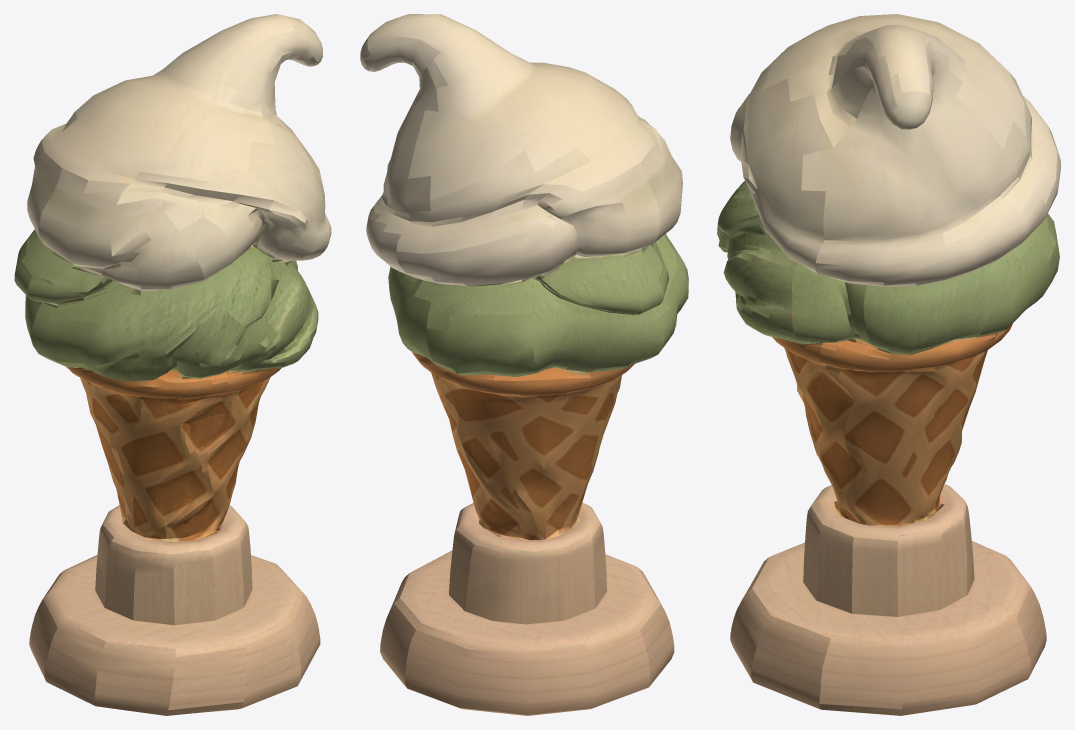
Rendered from dondurma.glb.
3 renders of one model, left to right at view 1: azimuth 30°, elevation 25°; view 2: azimuth 150°, elevation 25°; view 3: azimuth 270°, elevation 25°, orthographic. The views are drawn at different scales.
Visible parts, largest first — view 1: Mesh0; view 2: Mesh0; view 3: Mesh0.
Boxes of the visible parts, x1,y1,x2,y2 form: Mesh0: (14, 14, 331, 715); Mesh0: (360, 14, 688, 715); Mesh0: (717, 14, 1060, 715).
Bounding box in the file's own units: 0.9547 × 1.9 × 0.8868.
1 material, 1 textured.
